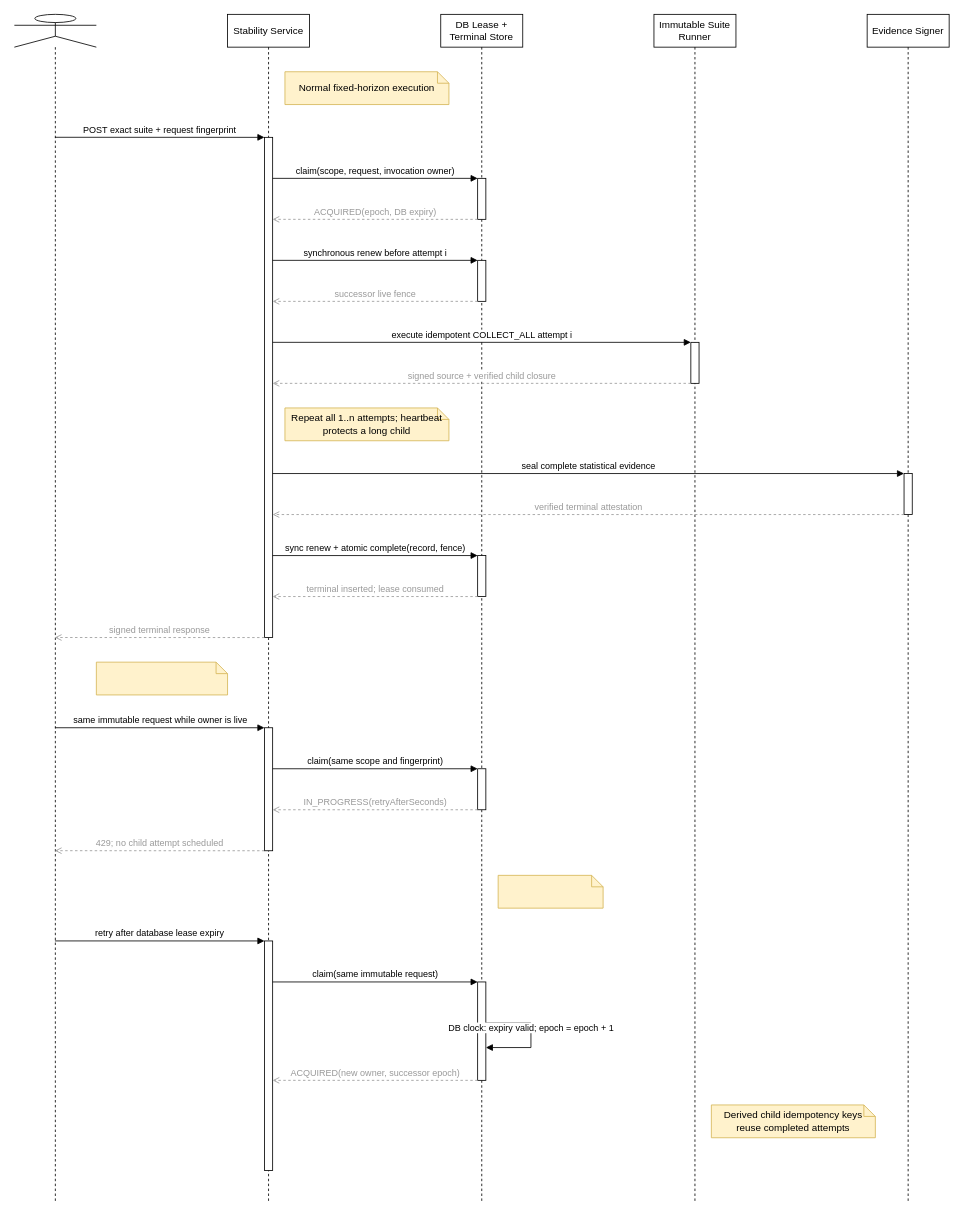
This 964x1218 diagram has some shape labels left out. Each missing label, with the box of its shape:
CI / Test Kit: (14, 14, 96, 1203)
Concurrent duplicate: (96, 661, 228, 695)
Crash recovery: (497, 875, 603, 908)
